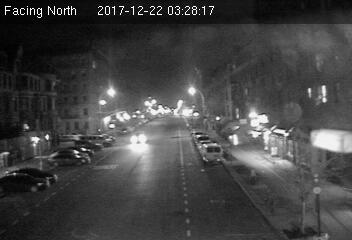car: (129, 131, 151, 144)
truck: (201, 143, 221, 164)
